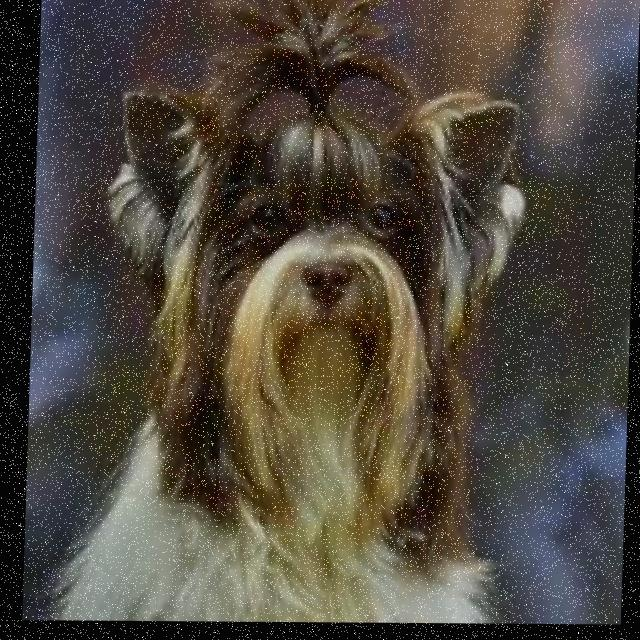dog: (88, 0, 572, 467)
